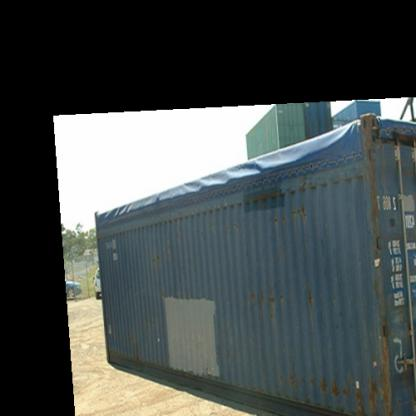Damage: (270, 364, 384, 412), (242, 284, 288, 312), (268, 202, 314, 228), (140, 240, 174, 266), (303, 286, 321, 323)
